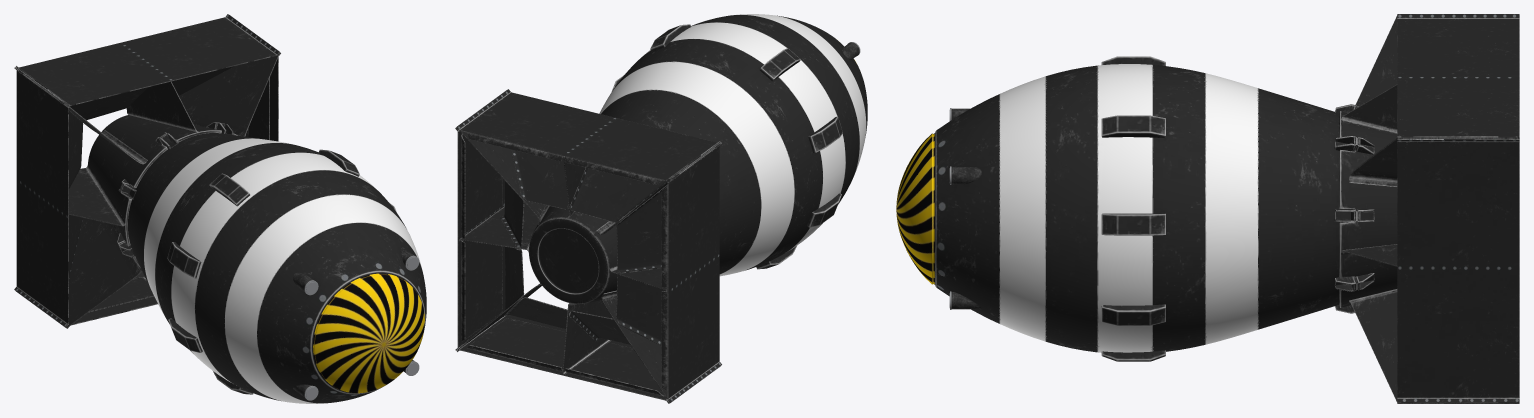
File: fat_man_bomb.glb
The picture shows the model from 3 angles, left to right: view 1: azimuth 30°, elevation 25°; view 2: azimuth 150°, elevation 25°; view 3: azimuth 270°, elevation 25°; orthographic projection. The views are drawn at different scales.
Parts seen in each view (by area): view 1: Bombe_avant, Ailerons, object 4, Fermeture, Senseurs, Attache; view 2: Ailerons, Bombe_avant, object 4, Fermeture; view 3: Bombe_avant, Ailerons, object 4, Fermeture, Attache, Senseurs.
Boxes of the visible parts, x1,y1,x2,y2 form: Bombe_avant: (128, 133, 426, 403); Ailerons: (14, 14, 280, 328); object 4: (88, 115, 237, 267); Fermeture: (167, 149, 396, 394); Senseurs: (293, 247, 419, 400); Attache: (117, 122, 233, 257); Ailerons: (455, 89, 721, 403); Bombe_avant: (599, 14, 867, 276); object 4: (529, 206, 617, 303); Fermeture: (611, 24, 842, 269); Bombe_avant: (896, 64, 1353, 352); Ailerons: (1341, 14, 1519, 403); object 4: (1339, 111, 1397, 307); Fermeture: (1101, 56, 1165, 361); Attache: (1334, 104, 1374, 313); Senseurs: (949, 108, 981, 309).
Size of the model in its own units: 0.9474 by 0.9474 by 2.
Materials: 6 (6 with a texture image).
